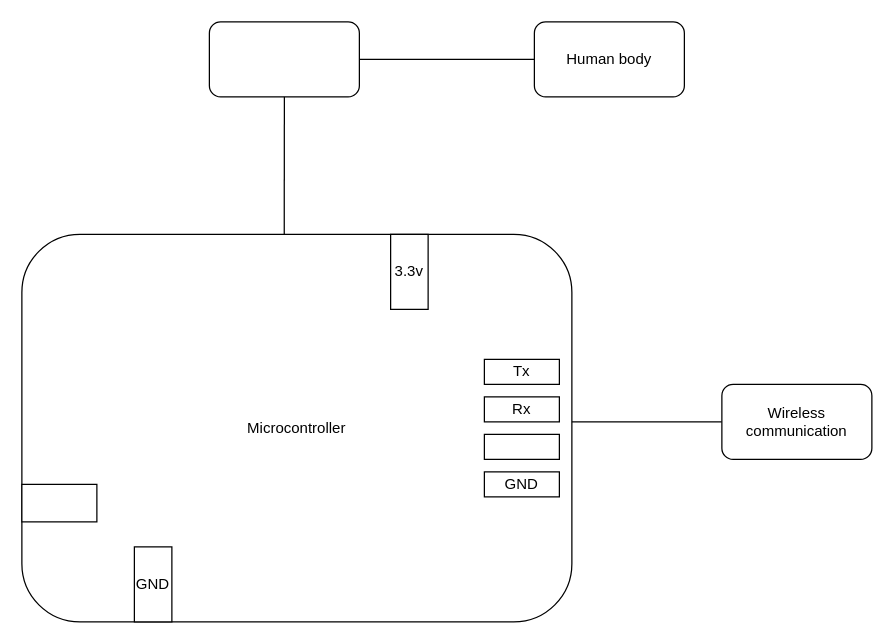
This 894x644 diagram has some shape labels left out. Here are the shapes that lost their labels. From the top down, the box of each, then its label:
(208, 21, 359, 97): ECG Electrodes
(483, 433, 559, 459): 5v
(21, 483, 97, 522): Vin
